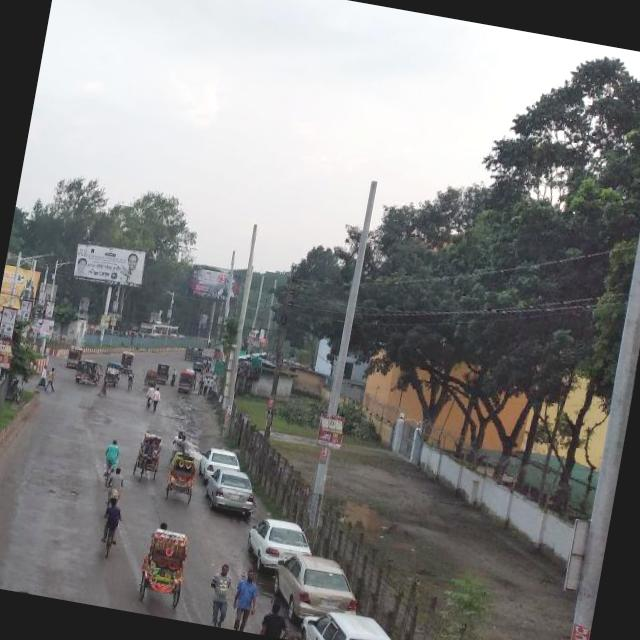bus: (140, 318, 180, 340)
car: (268, 544, 362, 616), (299, 599, 405, 640), (244, 514, 308, 568), (203, 467, 255, 514), (199, 443, 241, 478)
motorcycle: (137, 525, 192, 605), (166, 450, 199, 500), (132, 432, 164, 481), (76, 357, 104, 383), (104, 359, 123, 385), (118, 348, 136, 370), (178, 368, 195, 390), (66, 344, 83, 366), (156, 359, 170, 381), (143, 368, 158, 386), (184, 344, 196, 359), (191, 365, 199, 386), (202, 353, 213, 368), (194, 354, 205, 368)
